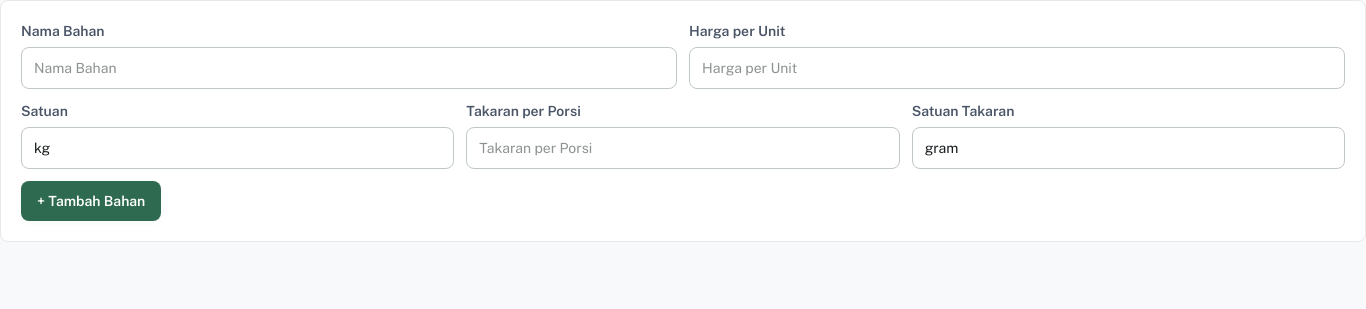
IngredientInput › shows error when name is empty
What coordinates should you click on to do the following:
click the button "+ Tambah Bahan"
I would click on:
 (91, 201)
Its box is [21,181,161,221].
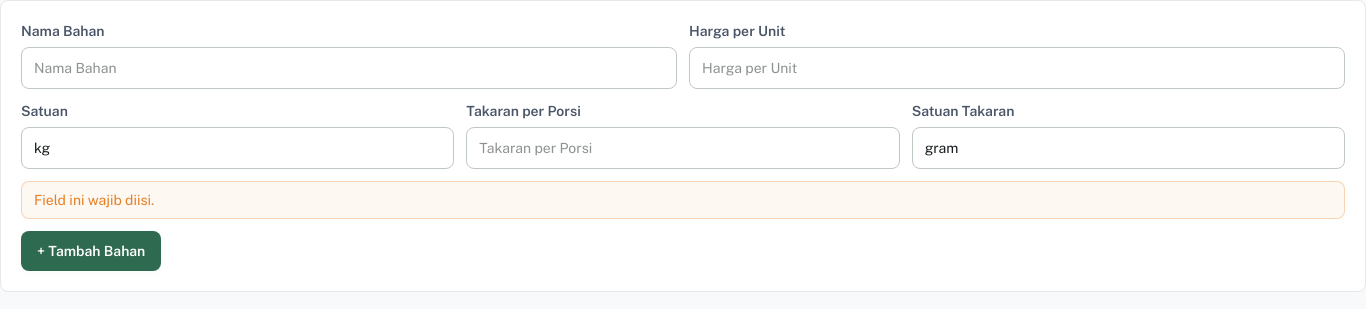
expect the text "Field ini wajib diisi." is shown: met, box [21,181,1345,219]
